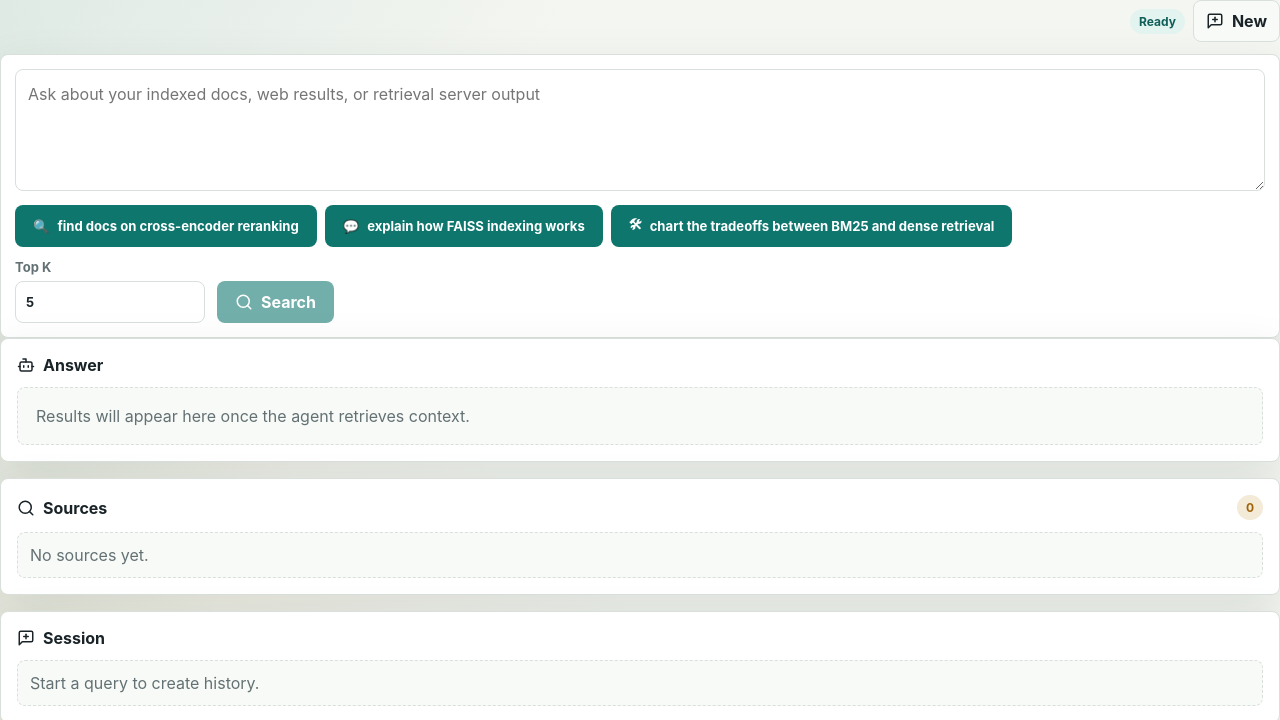
AssistPage claim streaming › renders claim text as it streams in, joined with a space
Replace the text in the text box named "Question" with "what is faiss" at (640, 130), box [15,69,1265,191]
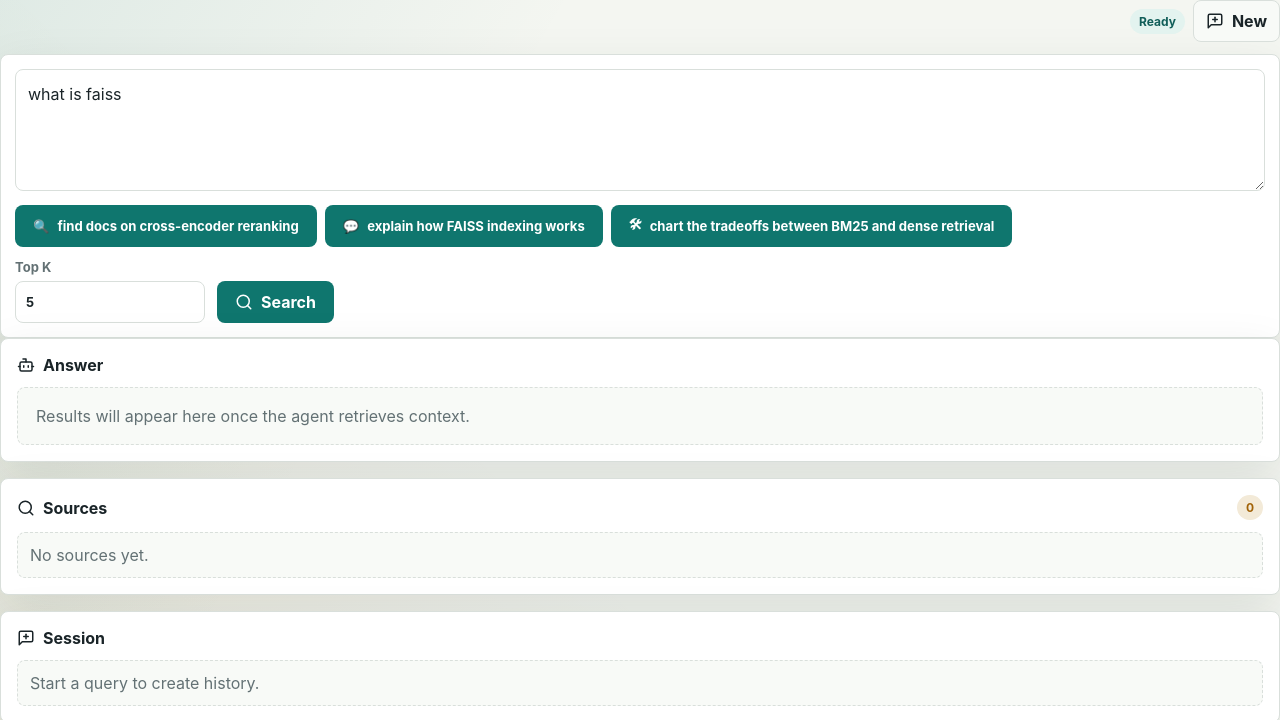
Click the button "Search".
click(276, 302)  # box [217,281,334,323]
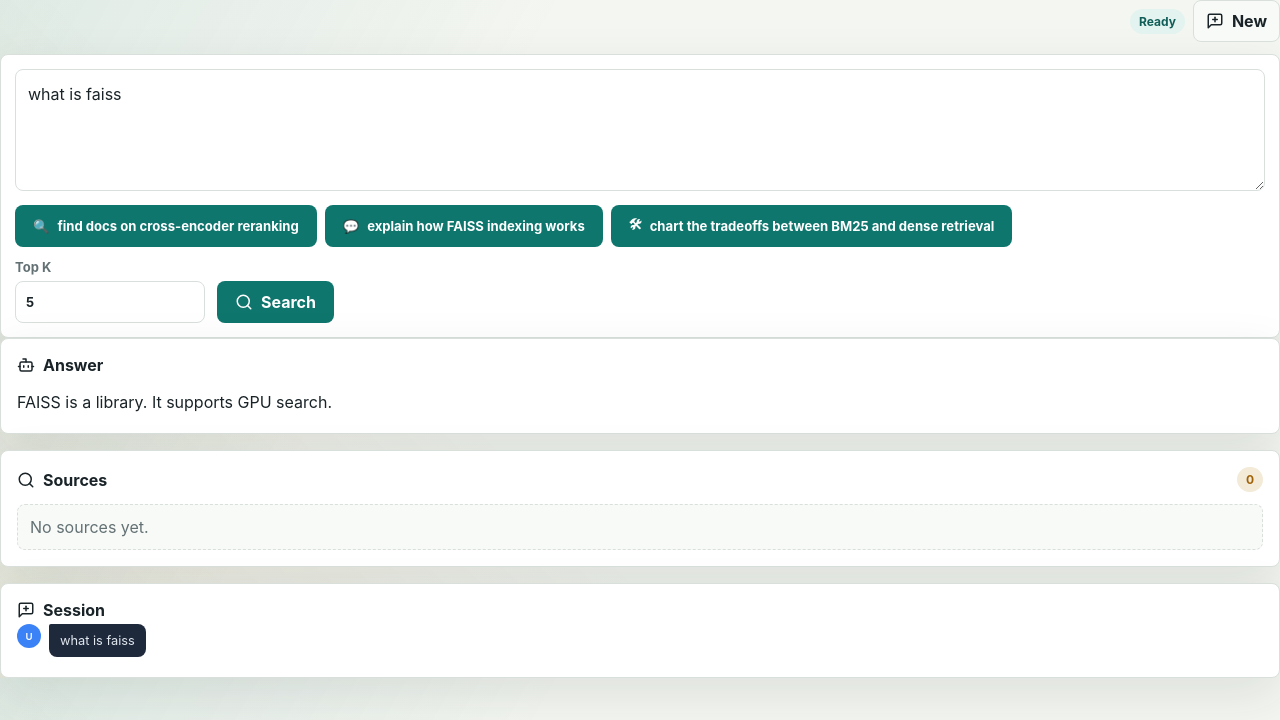
Expected: the text "FAISS is a library. It supports GPU search." is shown, [17,392,332,412]
